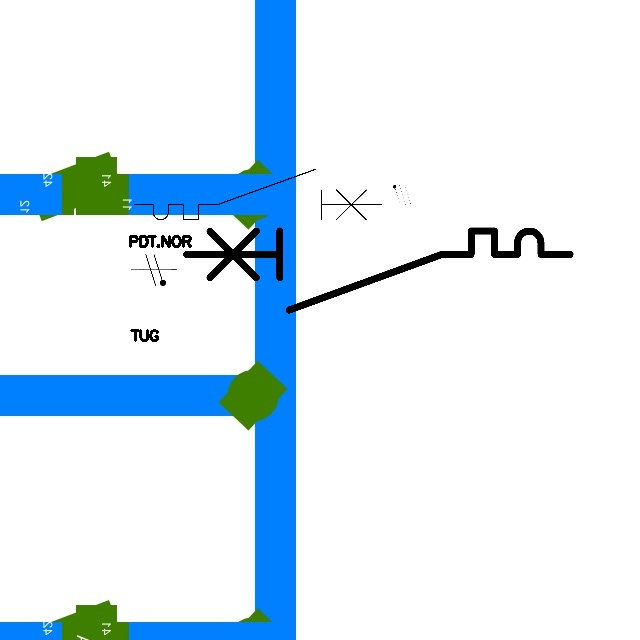interruptor_termomagnetico: (176, 221, 579, 319), (128, 163, 387, 226)
